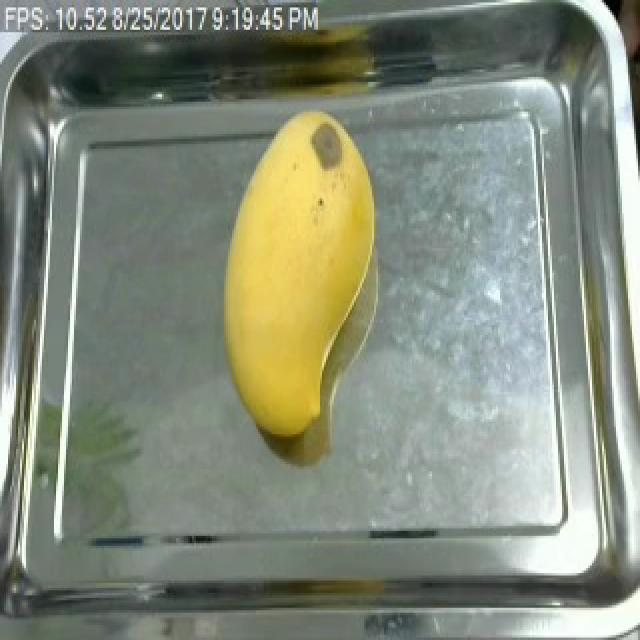fruit: (206, 102, 390, 449)
